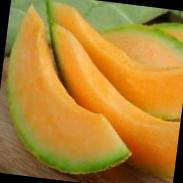Melon Ripe: (0, 1, 147, 180), (33, 21, 183, 176), (34, 0, 183, 120)
